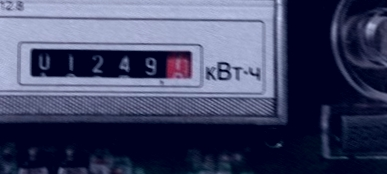0: (38, 49, 52, 69)
1: (65, 49, 77, 70)
2: (90, 51, 106, 73)
4: (119, 51, 132, 71)
7: (173, 49, 186, 69)
9: (145, 53, 158, 75)
screen: (16, 36, 207, 88)
